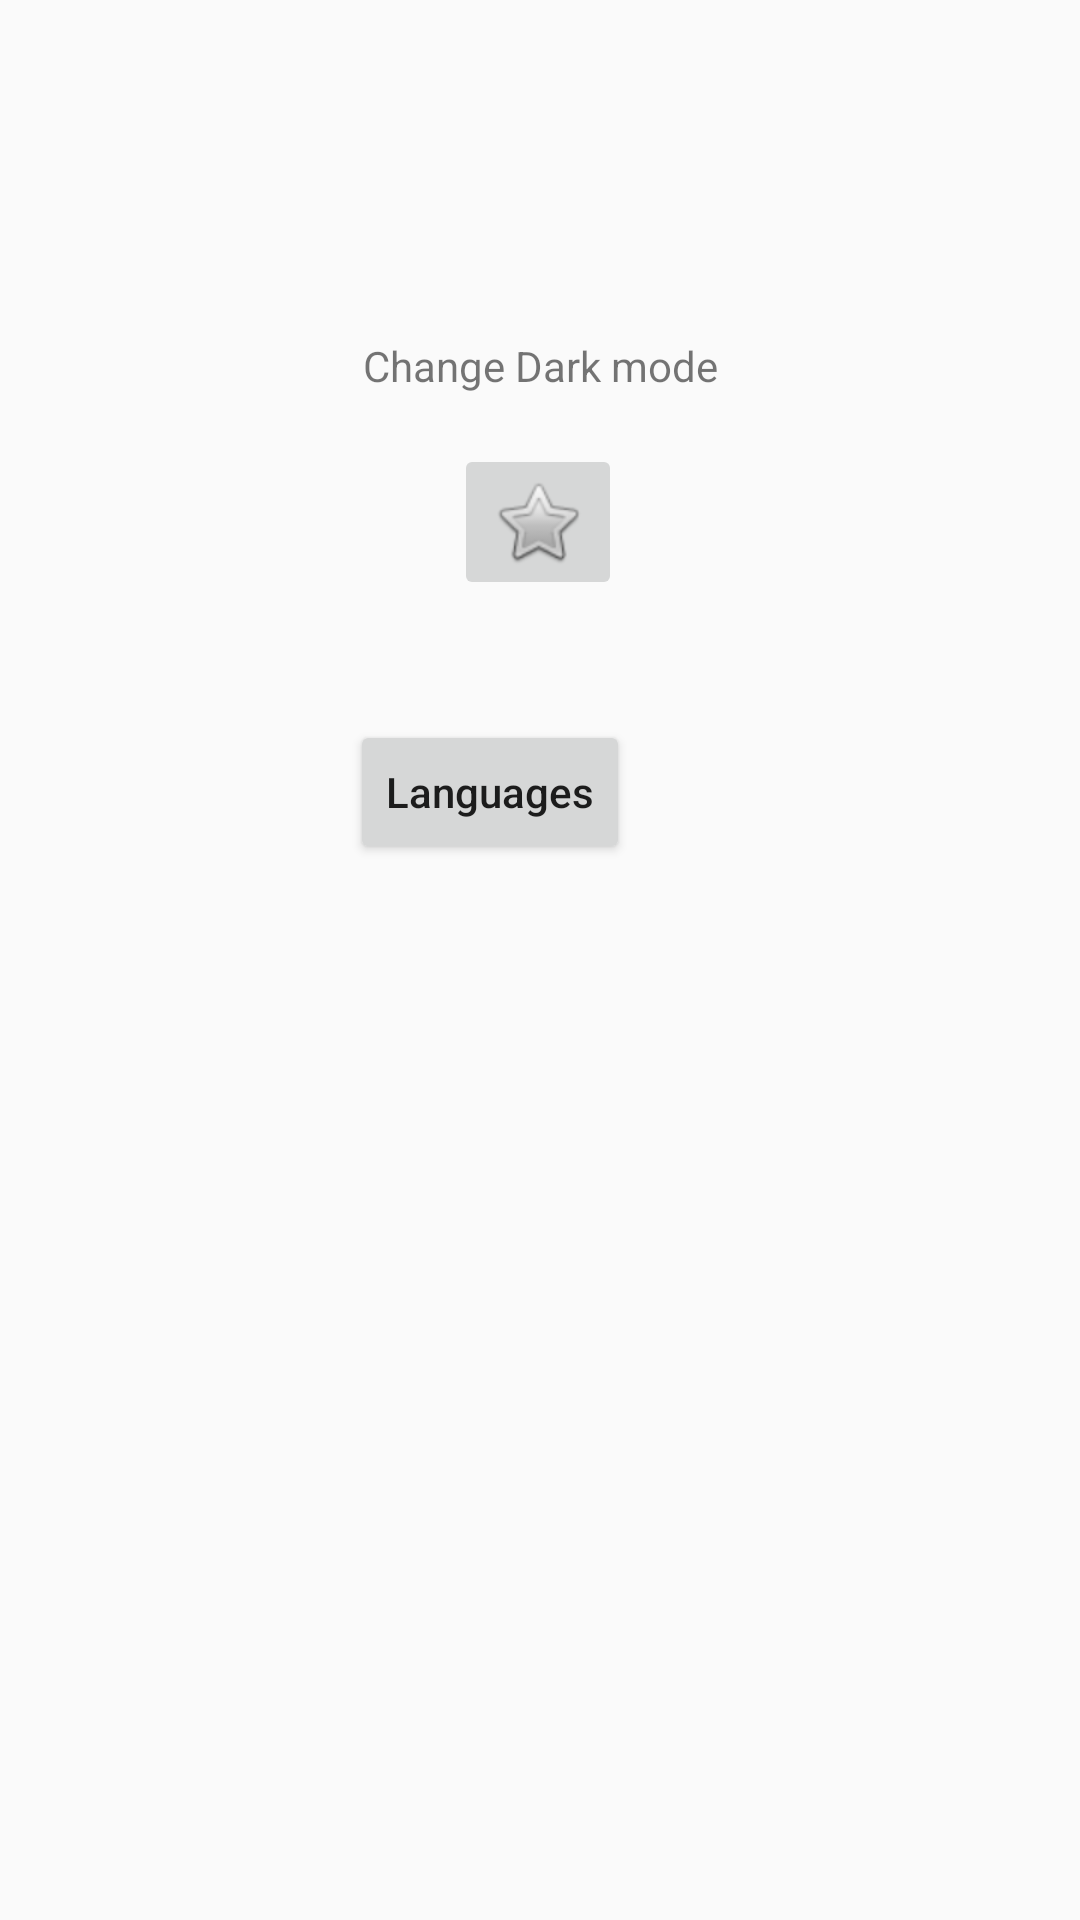

Where to tap for icons on this 1080x1920 app screen, as [x,y]:
star: [538,522]
